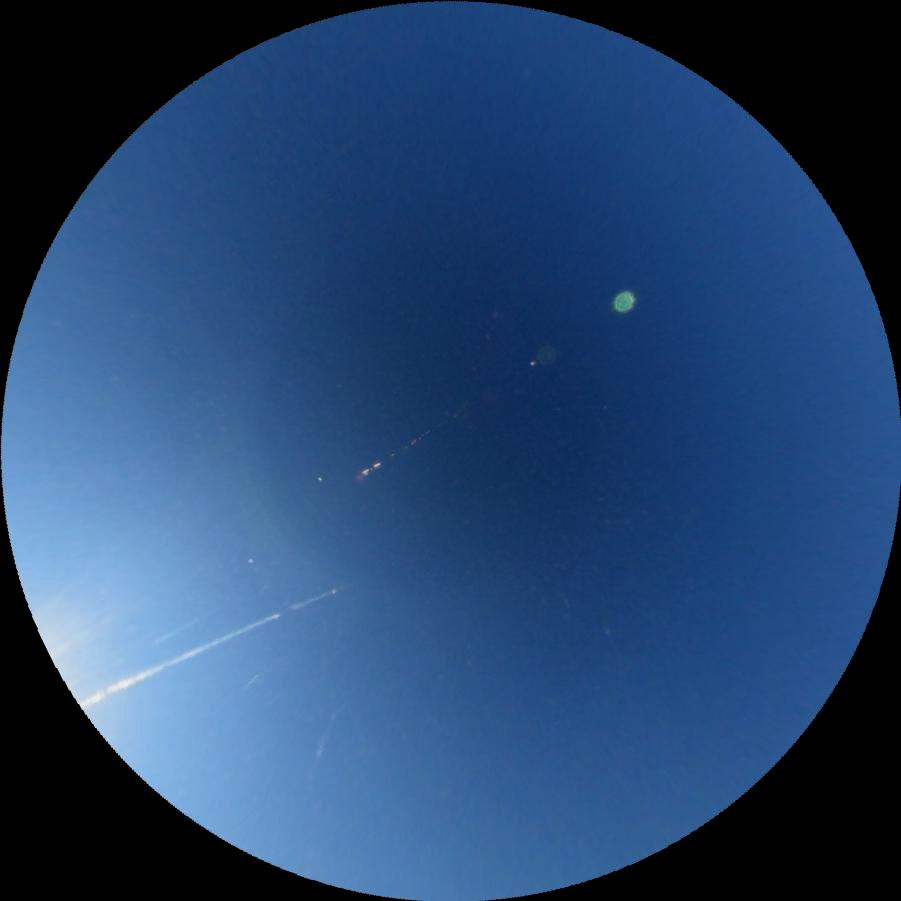contrail young: (238, 669, 261, 690)
parasite: (77, 582, 338, 709), (308, 708, 339, 765)
unknow: (153, 615, 207, 643)
